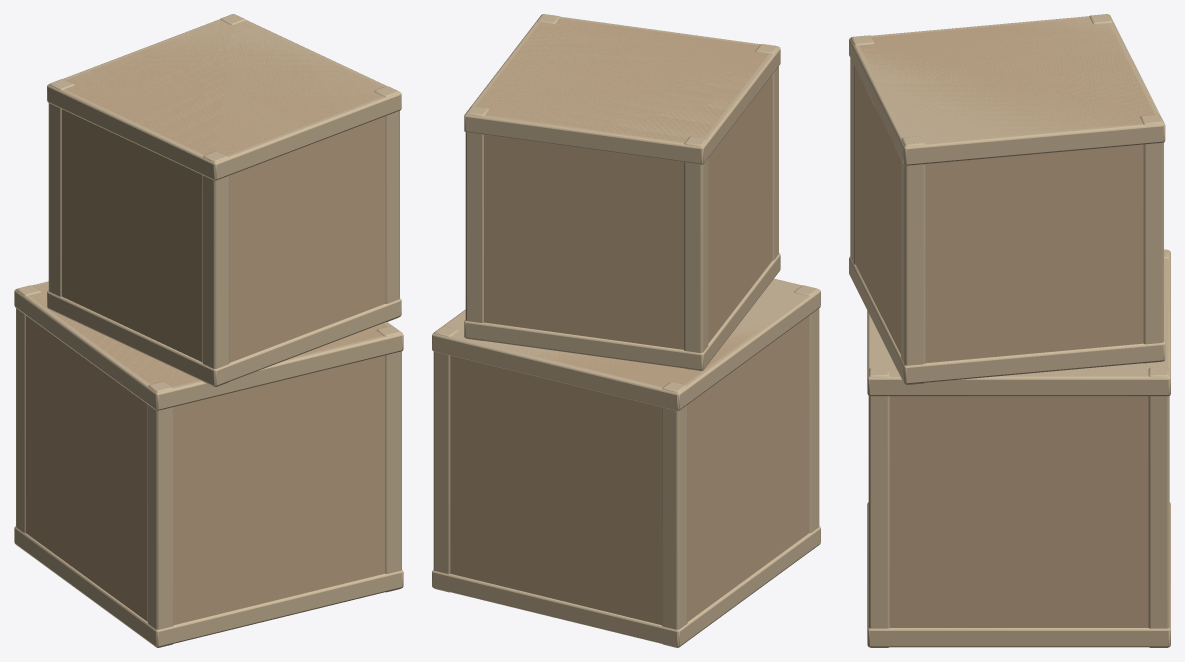
Rendered from cekirdek_dress.glb.
3 views of the same model, side by side, from view 1: azimuth 30°, elevation 25°; view 2: azimuth 150°, elevation 25°; view 3: azimuth 270°, elevation 25° (orthographic). The views are drawn at different scales.
Visible parts, largest first — view 1: chunk_2_-1; view 2: chunk_2_-1; view 3: chunk_2_-1.
Part boxes in pixels (box(x1,y1,x2,y2)): chunk_2_-1: box(14, 14, 403, 647); chunk_2_-1: box(432, 14, 820, 647); chunk_2_-1: box(849, 14, 1170, 647).
Size of the model in its own units: 1.35 by 2.36 by 1.35.
